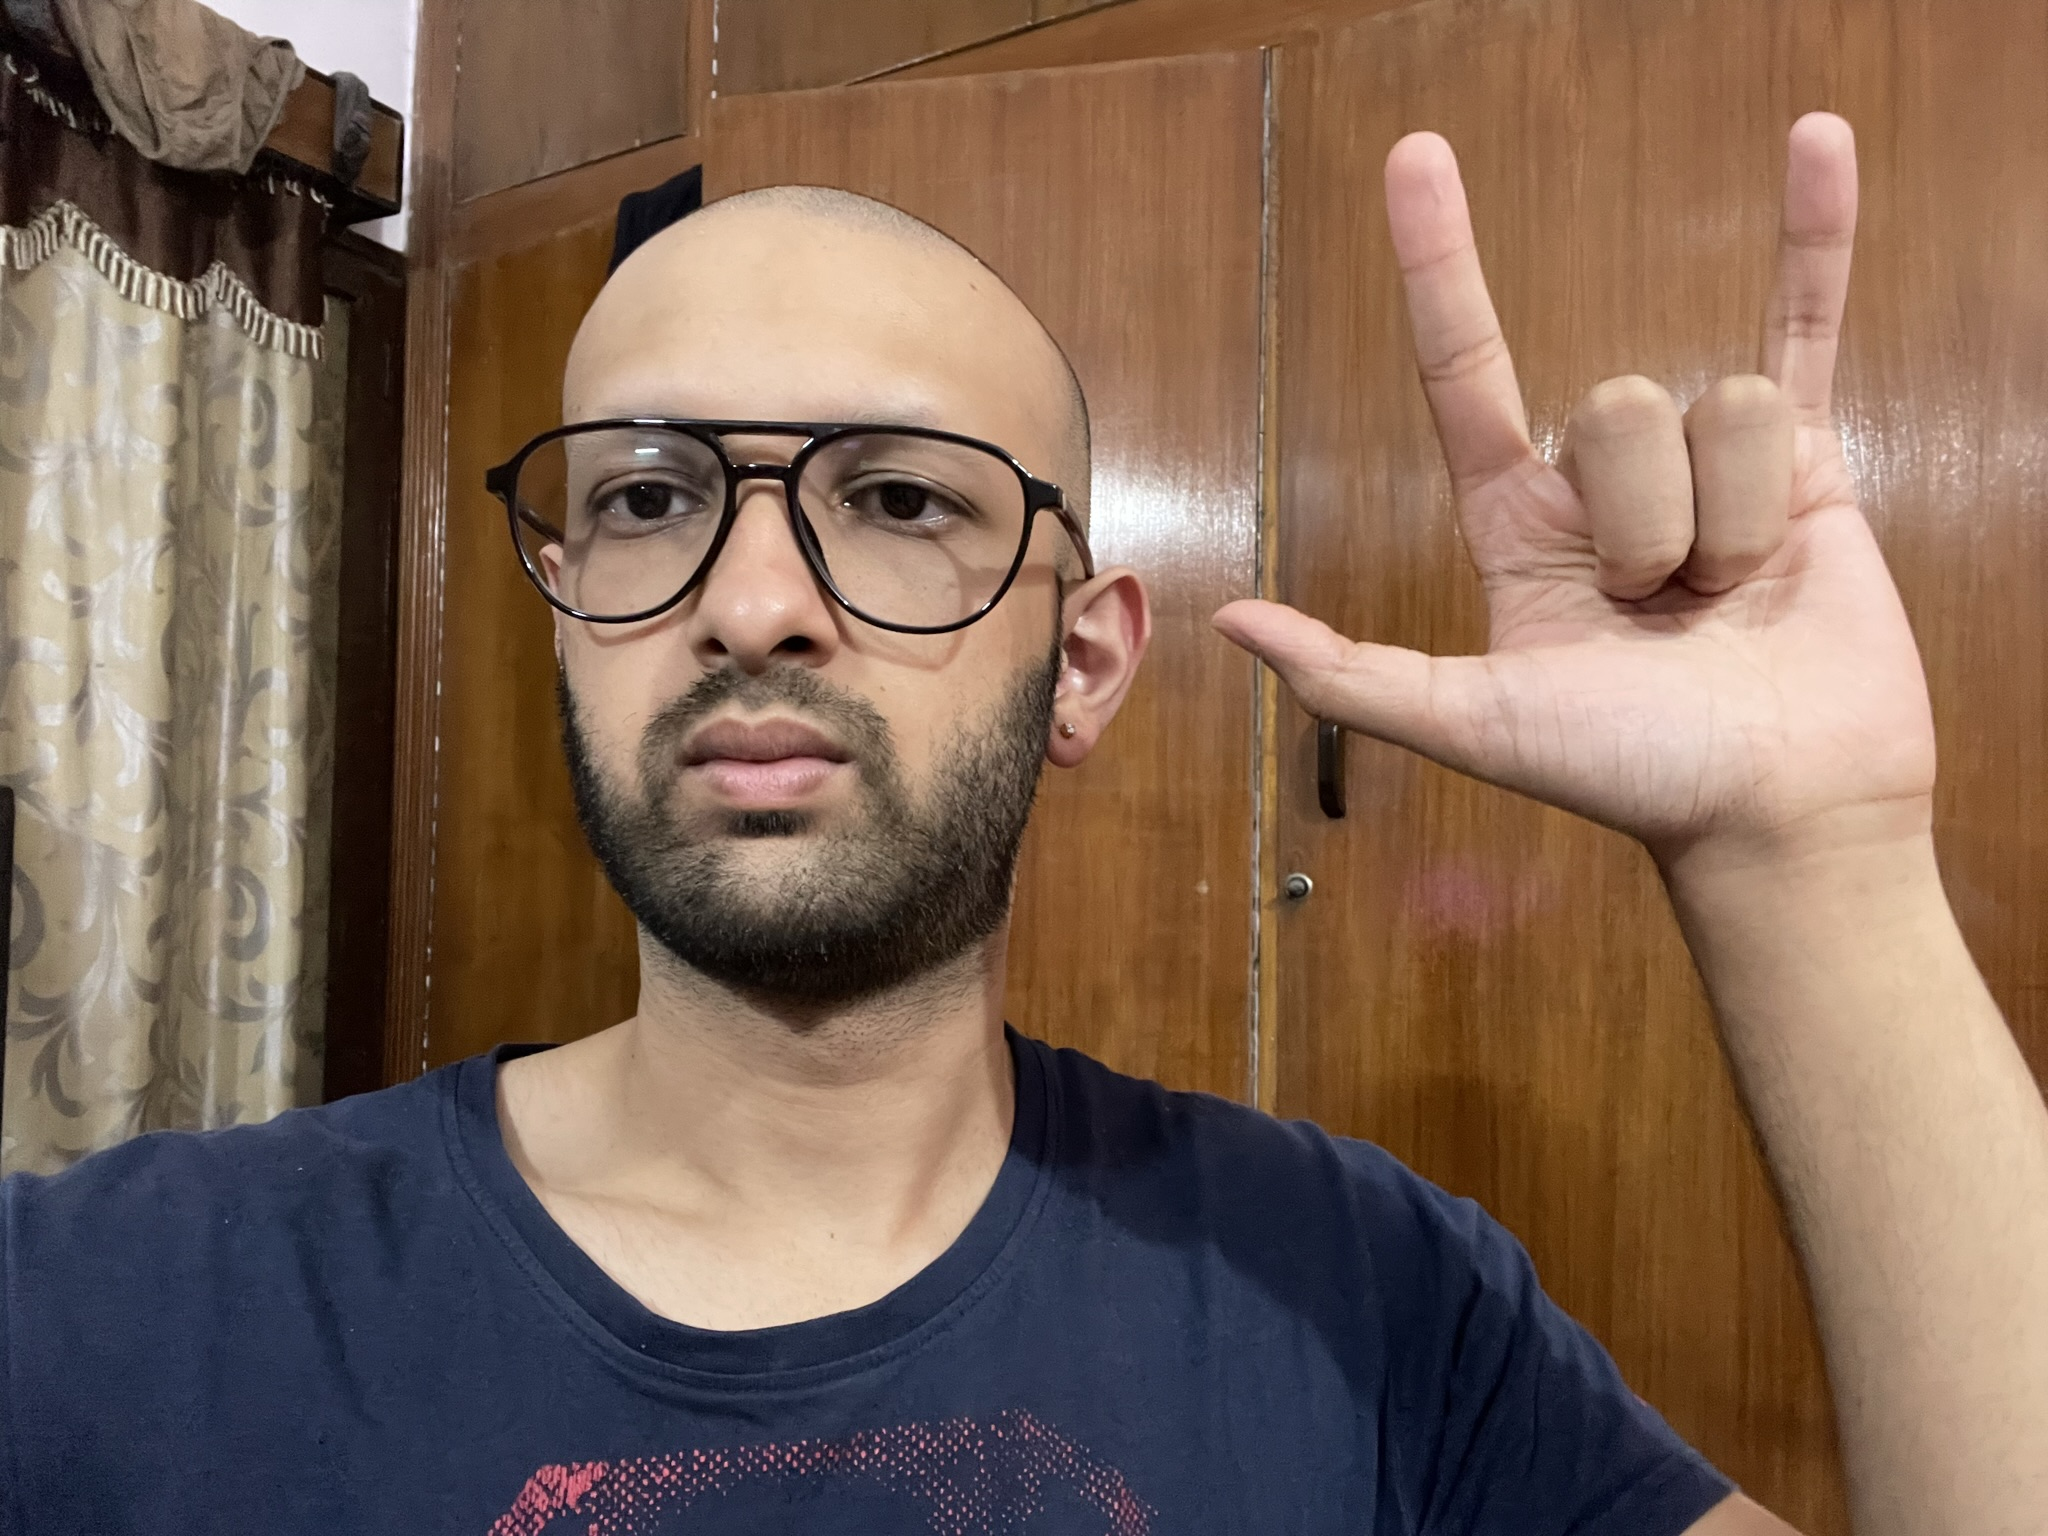I Love You: (1205, 110, 1985, 849)
